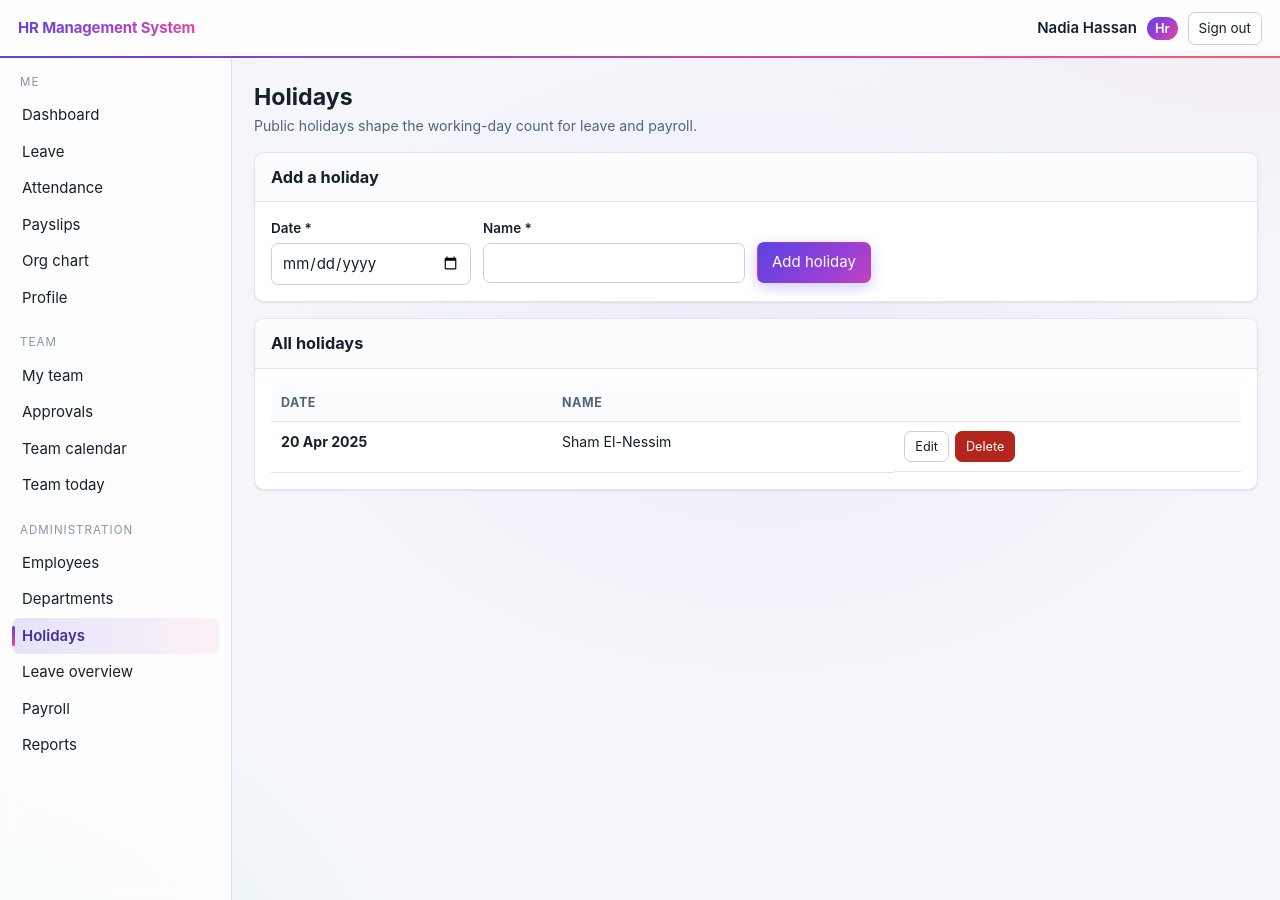
Test: holidays › names both missing fields instead of posting
Click the button "Add holiday" at (814, 263), box [757,242,871,283]
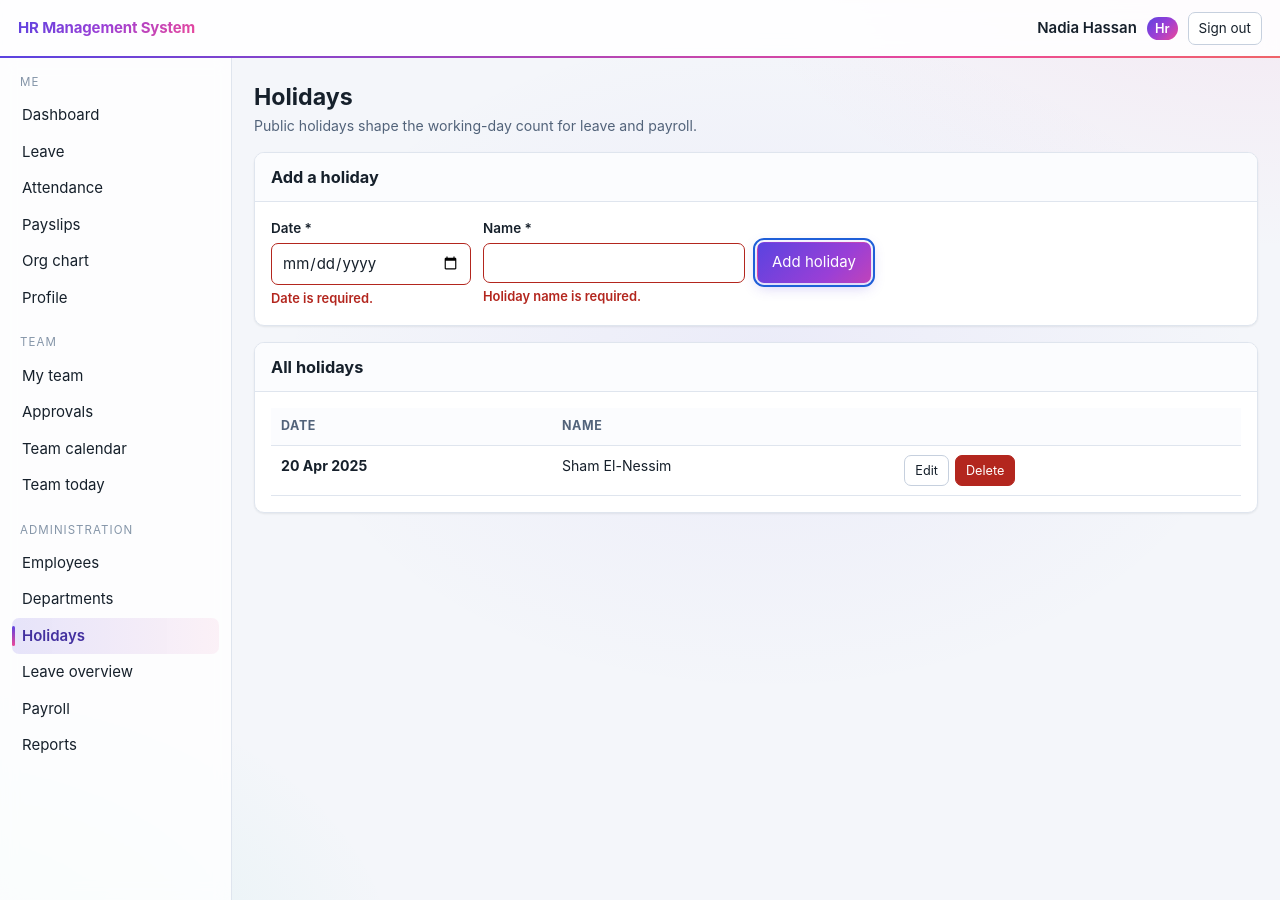
Now the text "Date is required." is shown, box [271,291,373,306]
Now the text "Holiday name is required." is shown, box [483,289,641,304]
